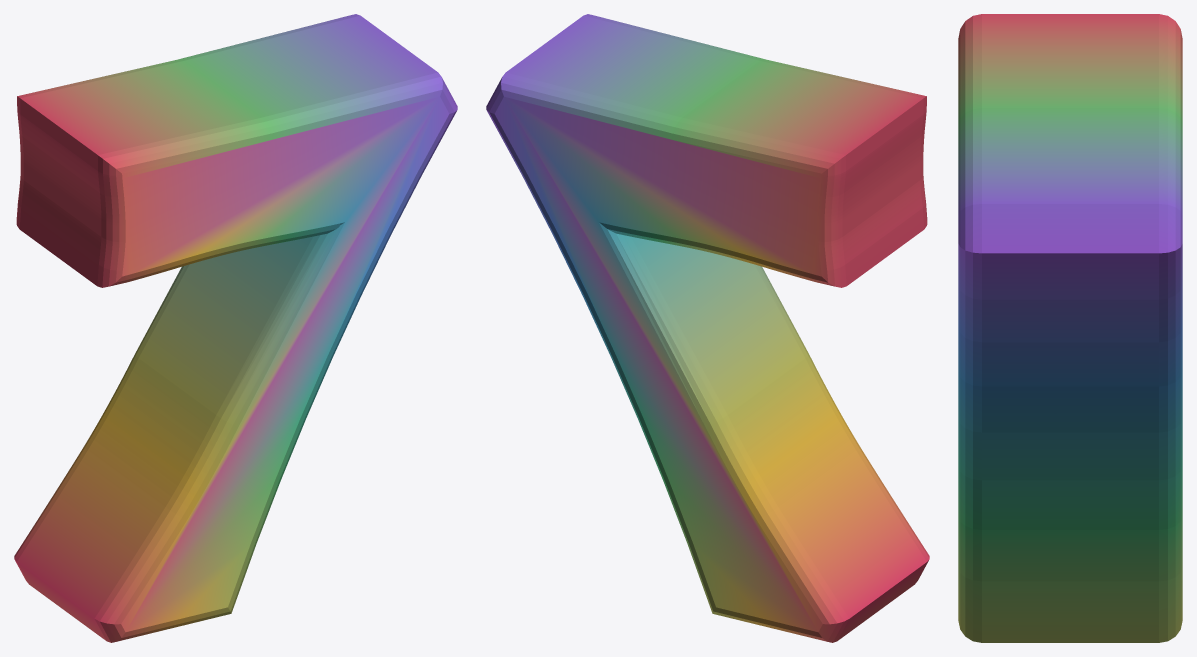
The picture shows the model from 3 angles, left to right: view 1: azimuth 30°, elevation 25°; view 2: azimuth 150°, elevation 25°; view 3: azimuth 270°, elevation 25°; orthographic projection. The views are drawn at different scales.
Size of the model in its own units: 0.9116 by 1.18 by 0.43.
